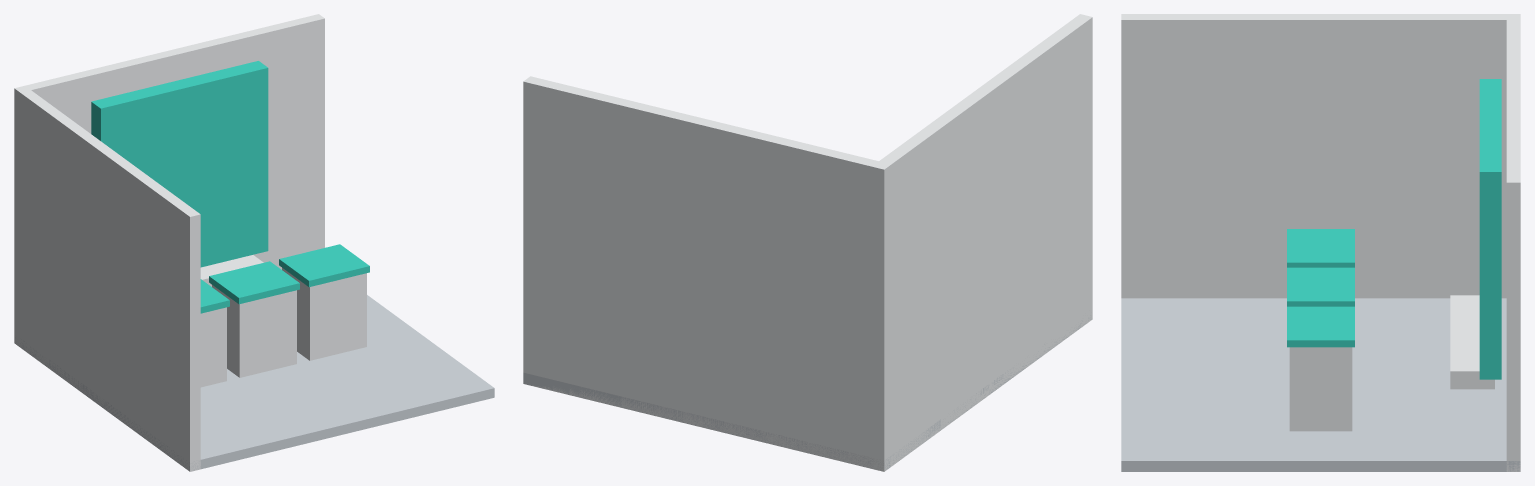
3 renders of one model, left to right at view 1: azimuth 30°, elevation 25°; view 2: azimuth 150°, elevation 25°; view 3: azimuth 270°, elevation 25°, orthographic. The views are drawn at different scales.
Visible parts, largest first — view 1: Exhibition Booth Concept; view 2: Exhibition Booth Concept; view 3: Exhibition Booth Concept.
Part boxes in pixels (left/top/right/bottom): Exhibition Booth Concept: left=14, top=14, right=494, bottom=471; Exhibition Booth Concept: left=523, top=14, right=1092, bottom=471; Exhibition Booth Concept: left=1121, top=14, right=1520, bottom=471.
Bounding box in the file's own units: 4 × 3.2 × 4.
